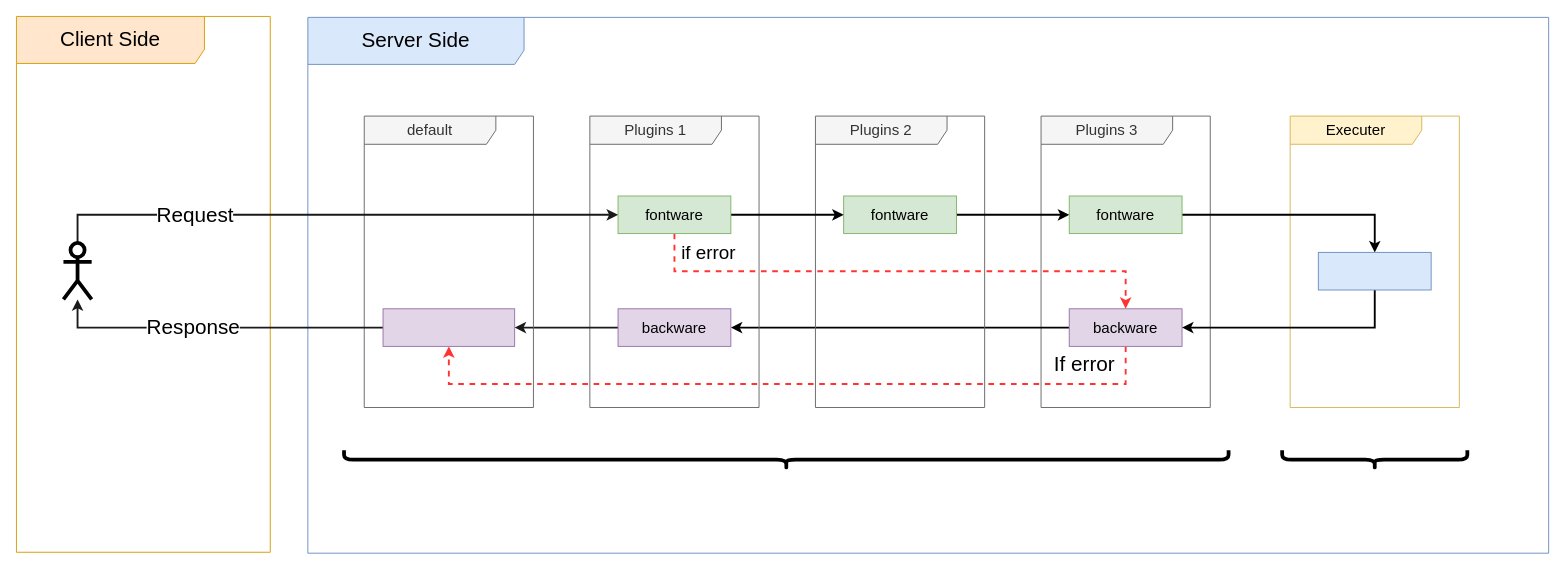
Some shapes in this 1565 by 570 pixel diagram are drawn without their labels. Here are the shapes that lost their labels. From the top down, the centre of each, then its label:
the point at 77,271: Client
the point at 1374,270: handle event
the point at 448,327: responseHandler
the point at 786,459: I/O Layer
the point at 1374,459: Logic Layer
